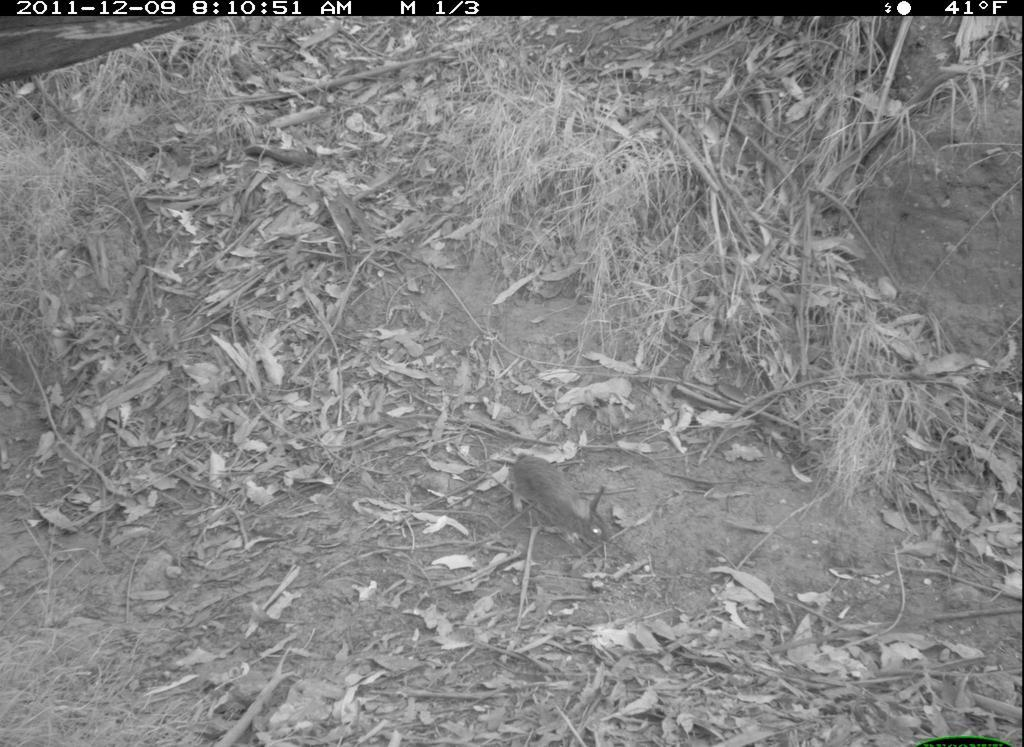rabbit: (492, 425, 665, 585)
